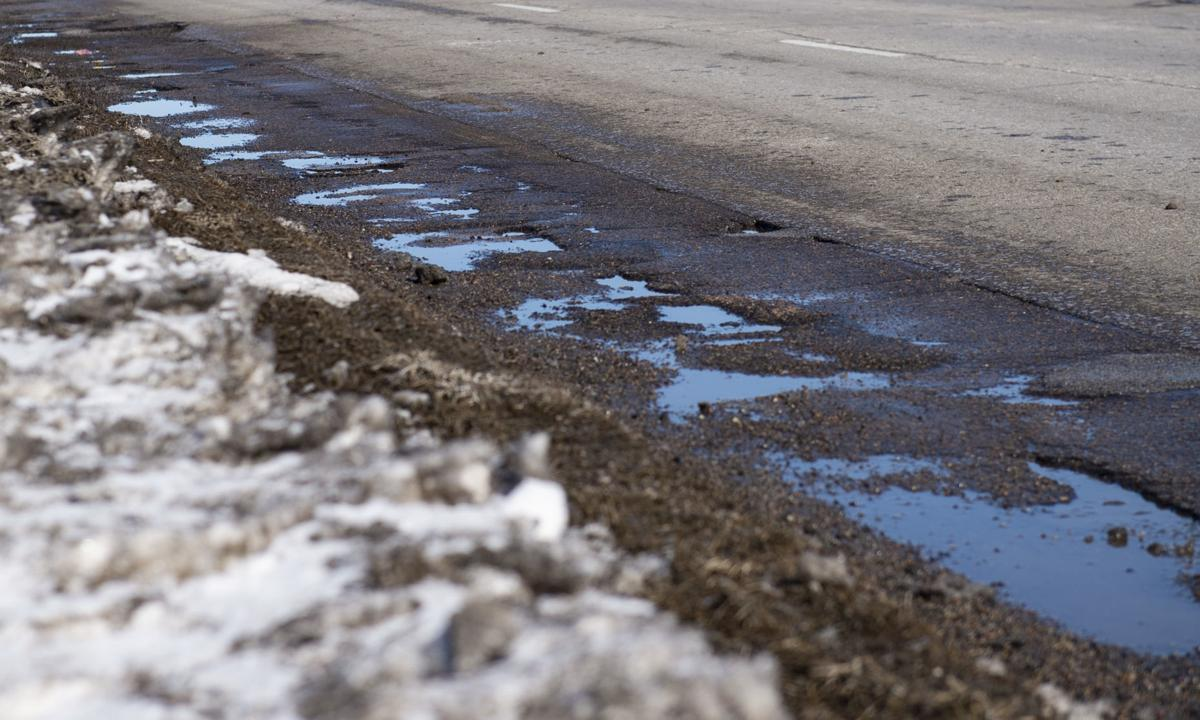Pothole: (103, 75, 975, 410), (749, 417, 1198, 718)
